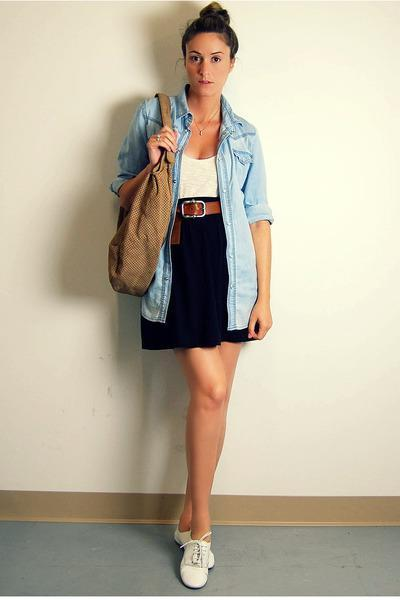jacket: (107, 87, 274, 330)
skirt: (137, 199, 267, 352)
vest: (164, 149, 232, 204)
